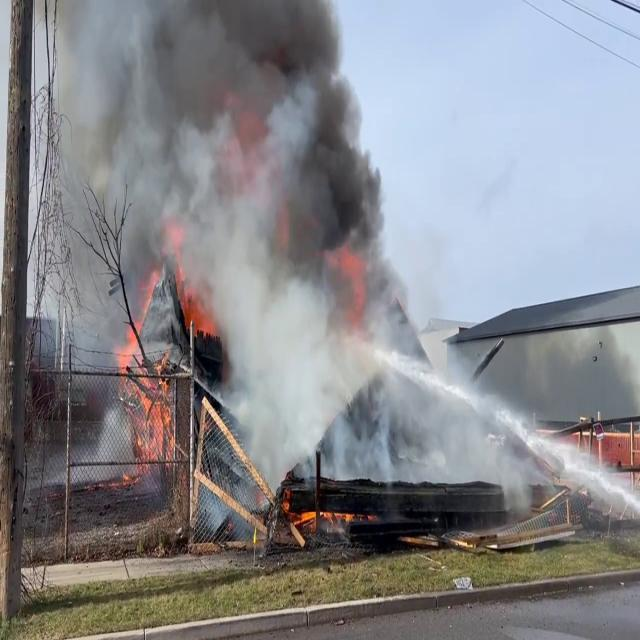Fire: (114, 299, 176, 481)
Smoke: (57, 0, 430, 410)
